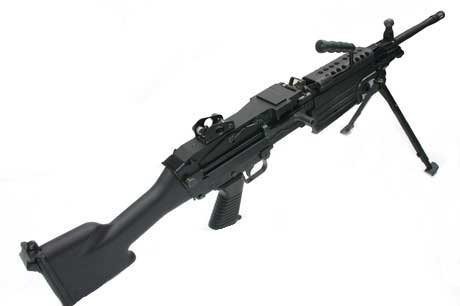rifle: (14, 11, 446, 296)
